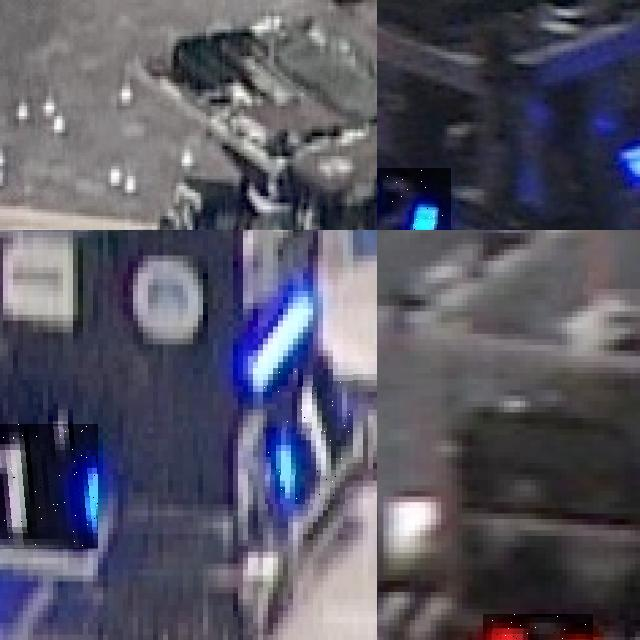B1: (263, 362, 353, 504), (0, 424, 98, 548)
B2: (377, 167, 451, 230)
R2: (483, 614, 593, 640)
